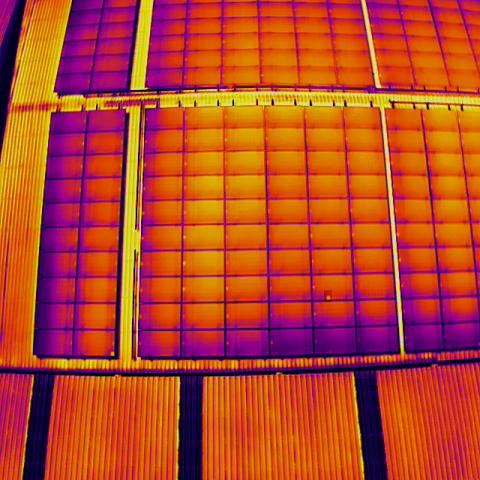fault: (324, 290, 332, 302), (108, 349, 116, 359)
